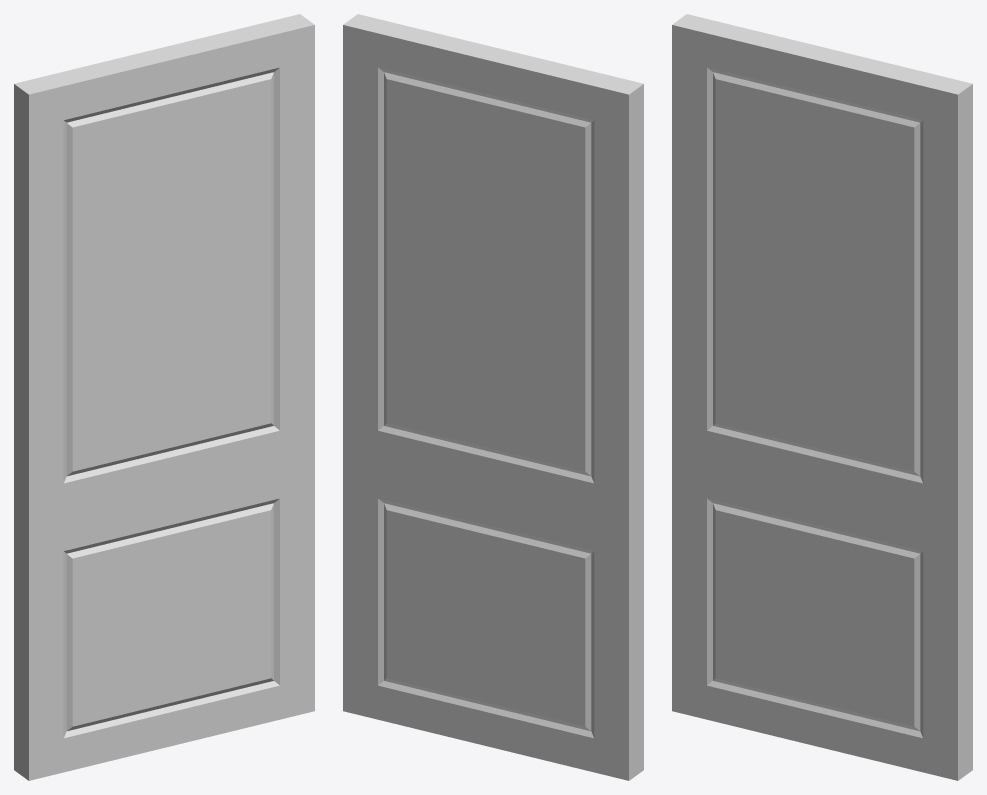
Rendered from Door2_C1.fbx.
The picture shows the model from 3 angles, left to right: view 1: azimuth 30°, elevation 25°; view 2: azimuth 150°, elevation 25°; view 3: azimuth 330°, elevation 25°; orthographic projection.
Visible parts, largest first — view 1: Door2_C1; view 2: Door2_C1; view 3: Door2_C1.
Boxes of the visible parts, <box> form: Door2_C1: <box>14,14,314,780</box>; Door2_C1: <box>343,14,643,780</box>; Door2_C1: <box>672,14,972,780</box>.
Bounding box in the file's own units: 89 × 204 × 8.
